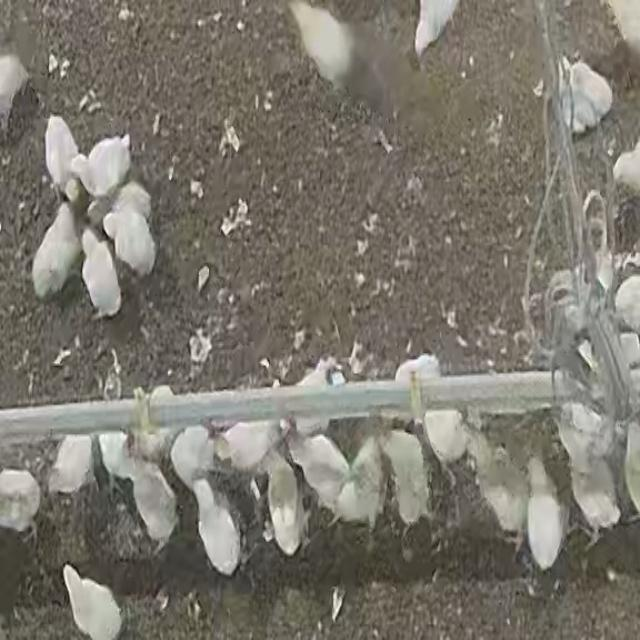chicken: (555, 421, 622, 548), (466, 423, 528, 555), (384, 427, 441, 539), (287, 1, 356, 92), (124, 451, 182, 557), (188, 479, 248, 580), (260, 450, 312, 558), (524, 456, 568, 574), (27, 204, 79, 303), (62, 564, 126, 640), (80, 229, 126, 323), (102, 210, 160, 278)
